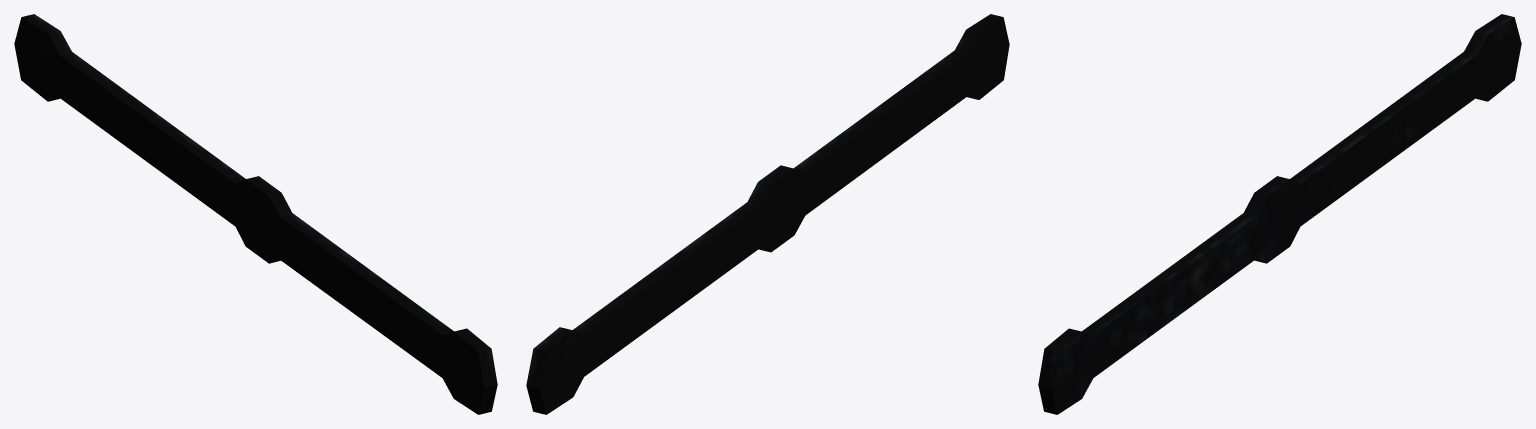
File: BarraIzqLarga.obj
3 views of the same model, side by side, from view 1: azimuth 30°, elevation 25°; view 2: azimuth 150°, elevation 25°; view 3: azimuth 330°, elevation 25° (orthographic).
Parts seen in each view (by area): view 1: BarraIzqLarga; view 2: BarraIzqLarga; view 3: BarraIzqLarga.
Part boxes in pixels (bbox=[...]): BarraIzqLarga: bbox=[14, 14, 497, 414]; BarraIzqLarga: bbox=[526, 14, 1009, 414]; BarraIzqLarga: bbox=[1038, 14, 1521, 414].
Bounding box in the file's own units: 0.0185 × 0.0824 × 1.04.
1 material, 1 textured.
